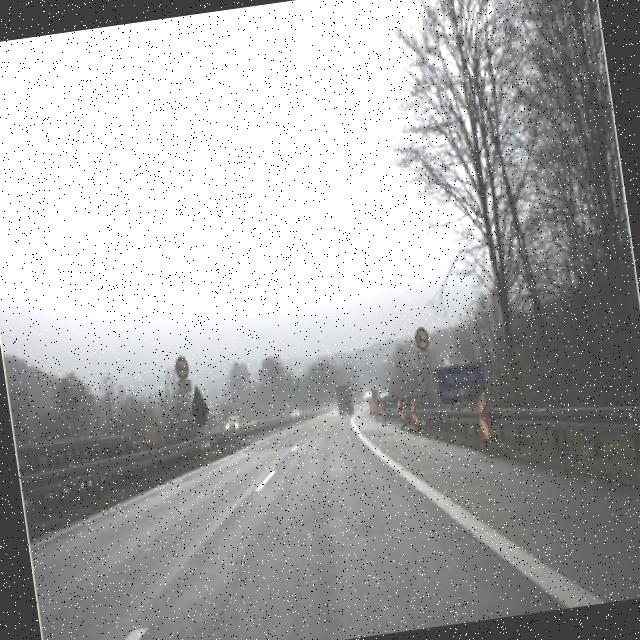Zakaz wyprzedzania: (412, 322, 434, 352), (172, 352, 192, 381)
